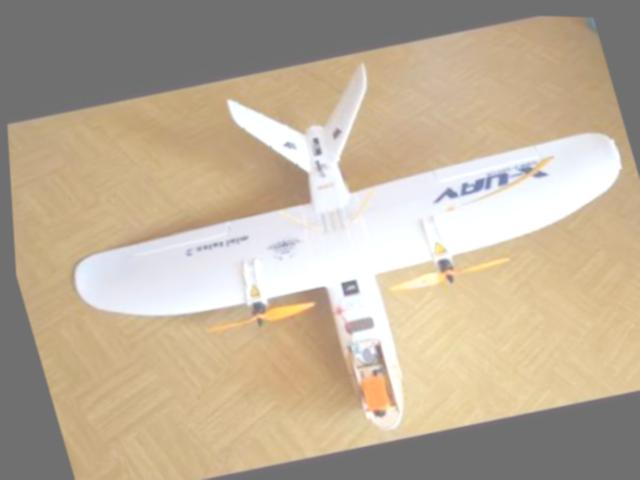uav: (13, 0, 640, 480)
